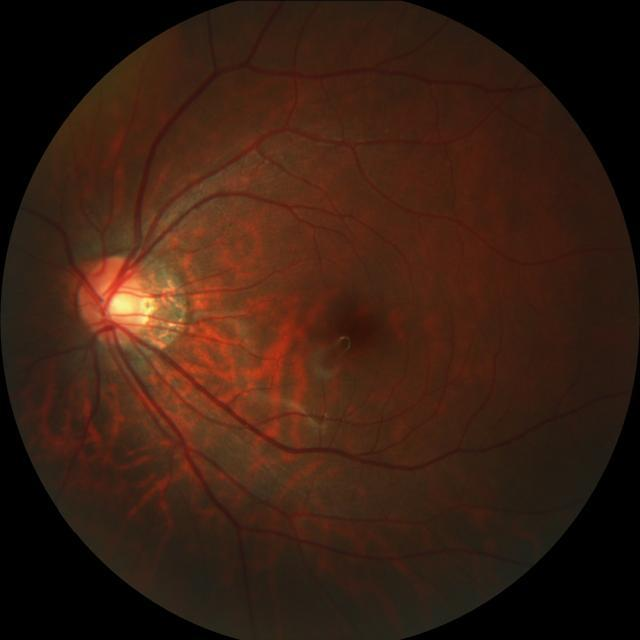OC: (108, 290, 141, 323)
OD: (78, 254, 154, 347)
